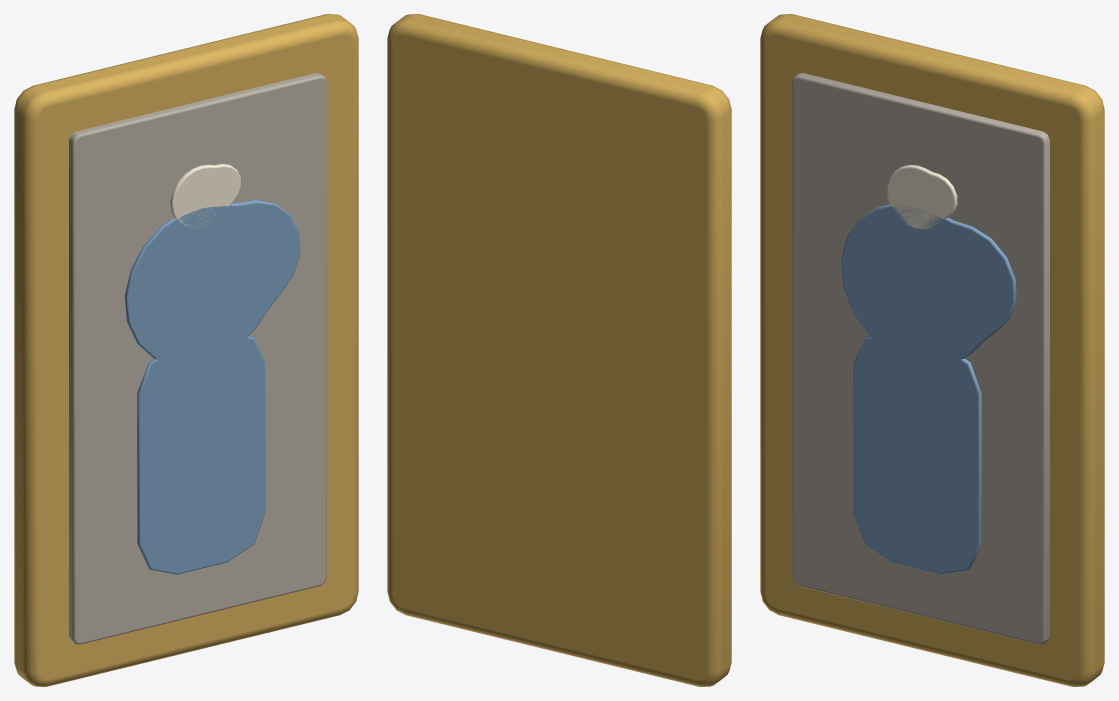
The model's file is framed_painting_portrait.glb.
3 renders of one model, left to right at view 1: azimuth 30°, elevation 25°; view 2: azimuth 150°, elevation 25°; view 3: azimuth 330°, elevation 25°, orthographic.
Parts seen in each view (by area): view 1: framed_painting_portrait_mesh; view 2: framed_painting_portrait_mesh; view 3: framed_painting_portrait_mesh.
Boxes of the visible parts, x1,y1,x2,y2 form: framed_painting_portrait_mesh: (14, 14, 358, 686); framed_painting_portrait_mesh: (387, 14, 731, 686); framed_painting_portrait_mesh: (760, 14, 1104, 686).
Bounding box in the file's own units: 0.5 × 0.85 × 0.067.
